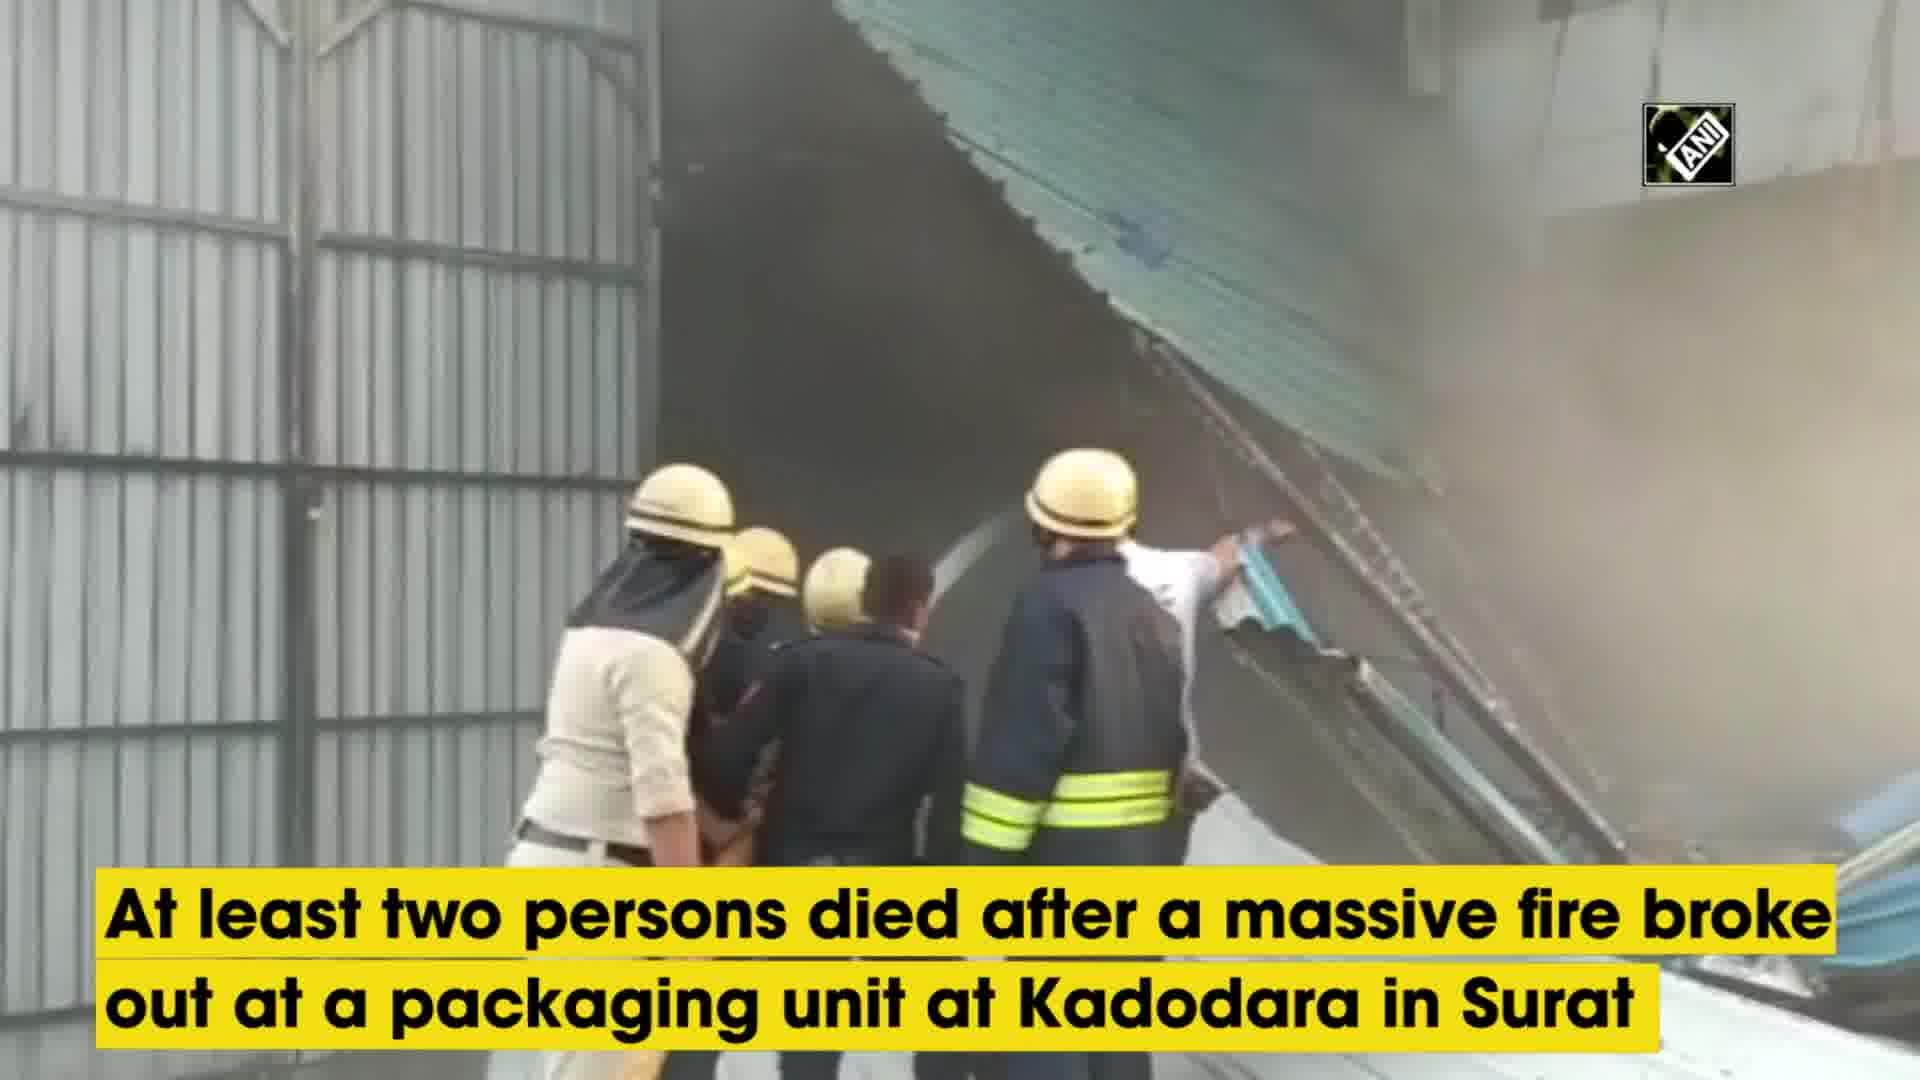smoke: (1528, 450, 1874, 736)
